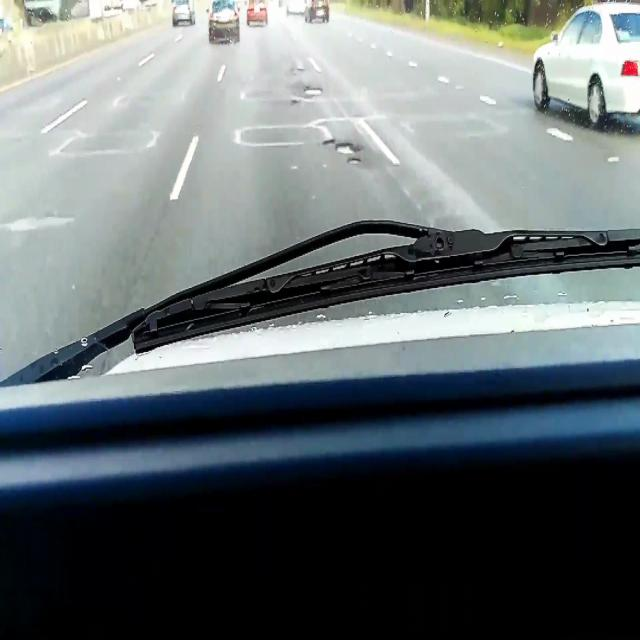Pothole: (336, 141, 362, 157), (303, 87, 323, 95)
